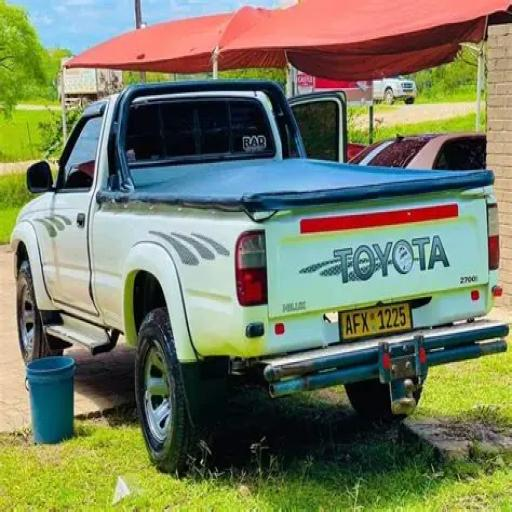number-plates: (341, 303, 414, 333)
